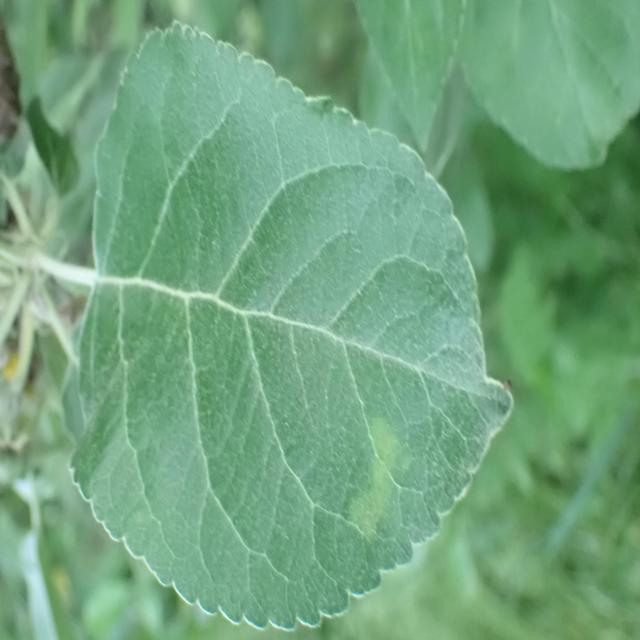scab: (107, 75, 413, 572)
